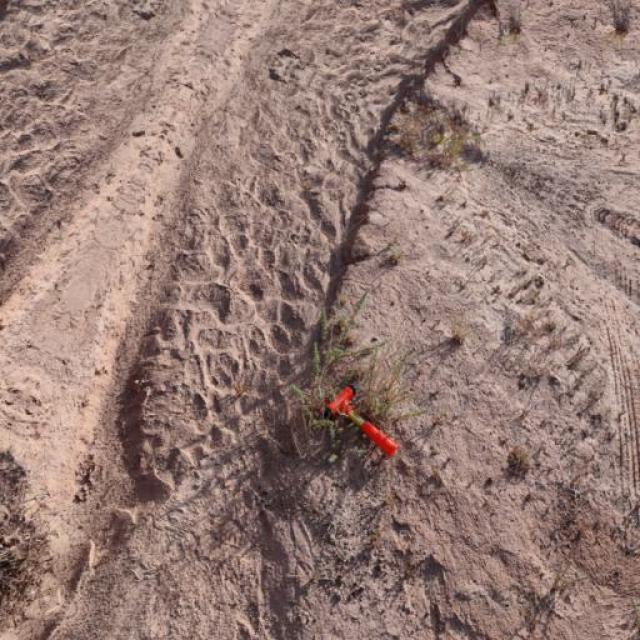mallet: (322, 382, 398, 458)
